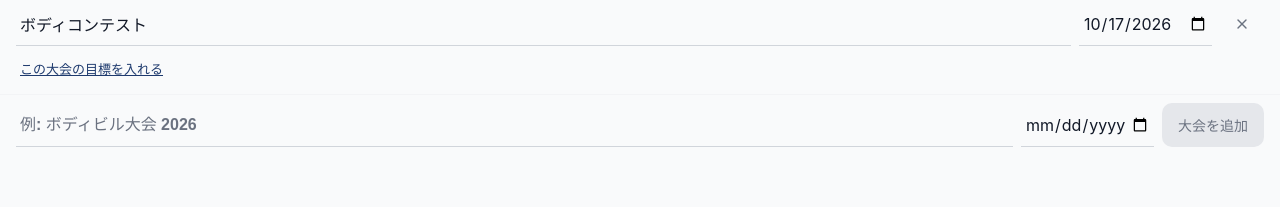
Test case: ContestEditor — 目標の欄を開く（目標が1つも無い大会） › 押すと、目標の欄（role="group"、aria-label「{大会名}の目標」）が開き、ボタンは消える
Click the button "この大会の目標を入れる".
click(92, 68)  # box [16,46,167,90]
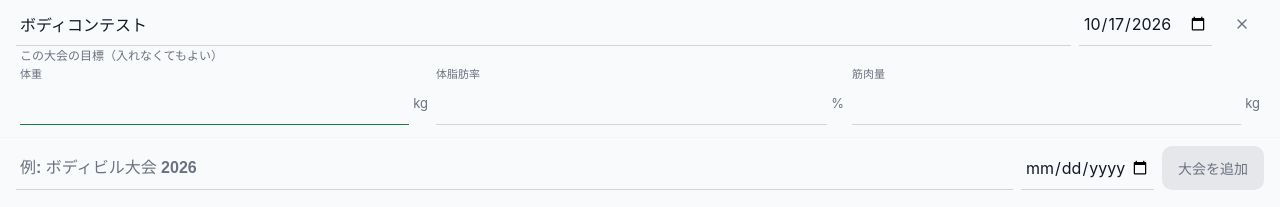
Now the button "この大会の目標を入れる" is gone
